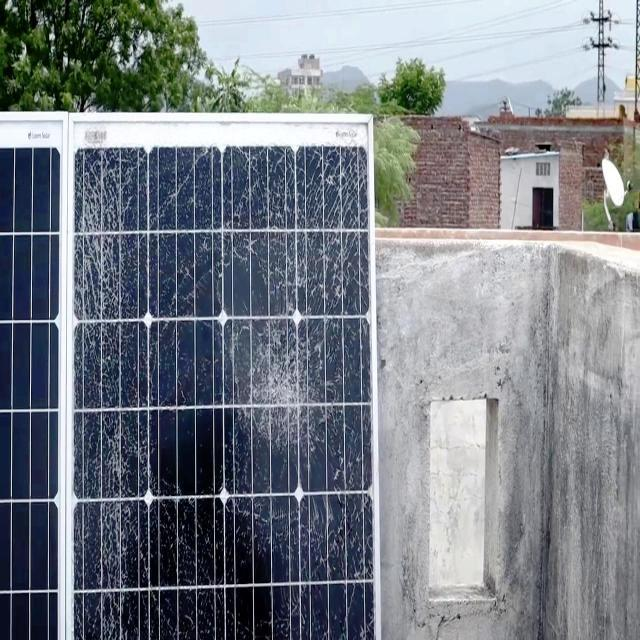faulty: (70, 128, 378, 638)
no faulty: (0, 127, 62, 640)
